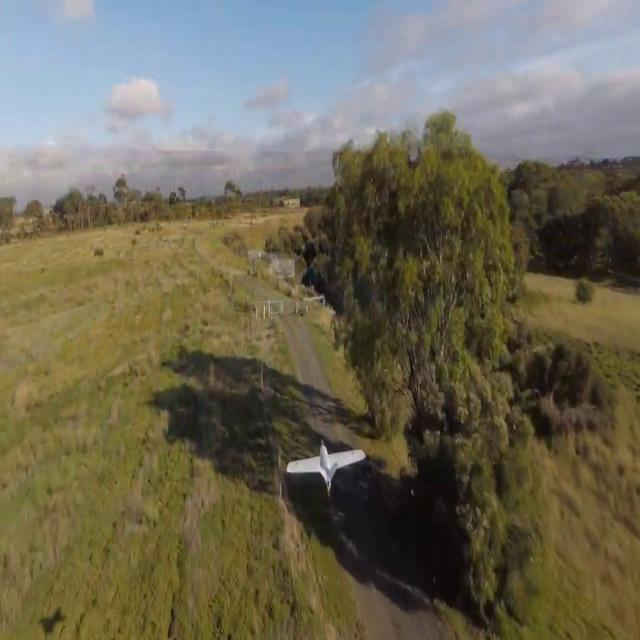iha: (311, 435, 330, 497)
